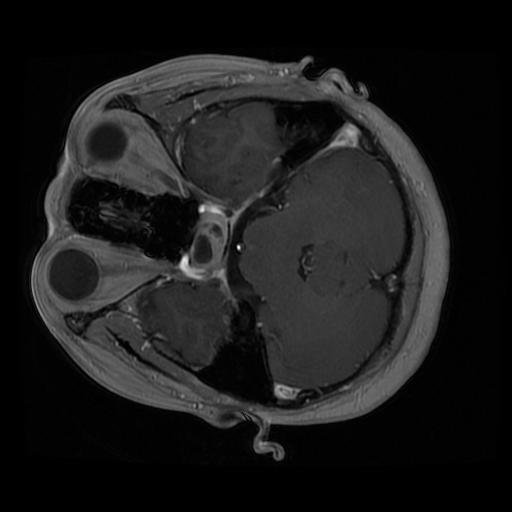pituitary tumour: (179, 205, 231, 280)
